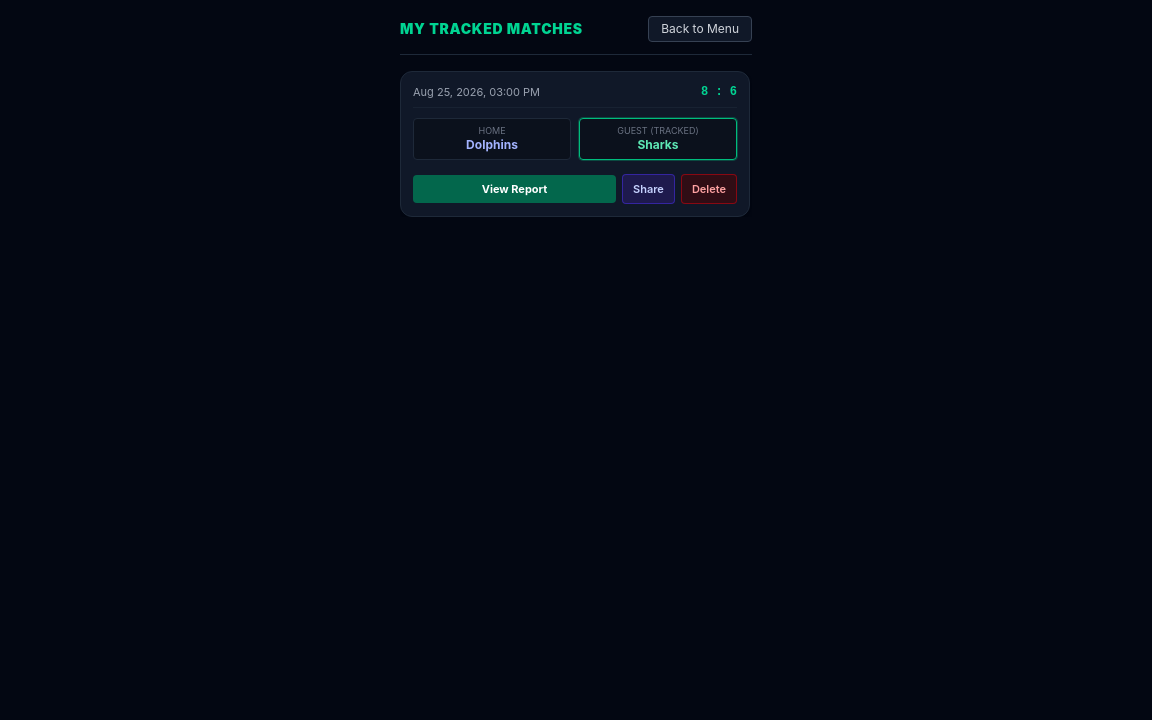
MyMatchesView Component › should handle share error gracefully when addUserToTrackedMatch fails
Expected: the text "Dolphins" is shown, [466,136,518,152]
Click the button "Share" at point(648, 189), box [622,174,675,204]
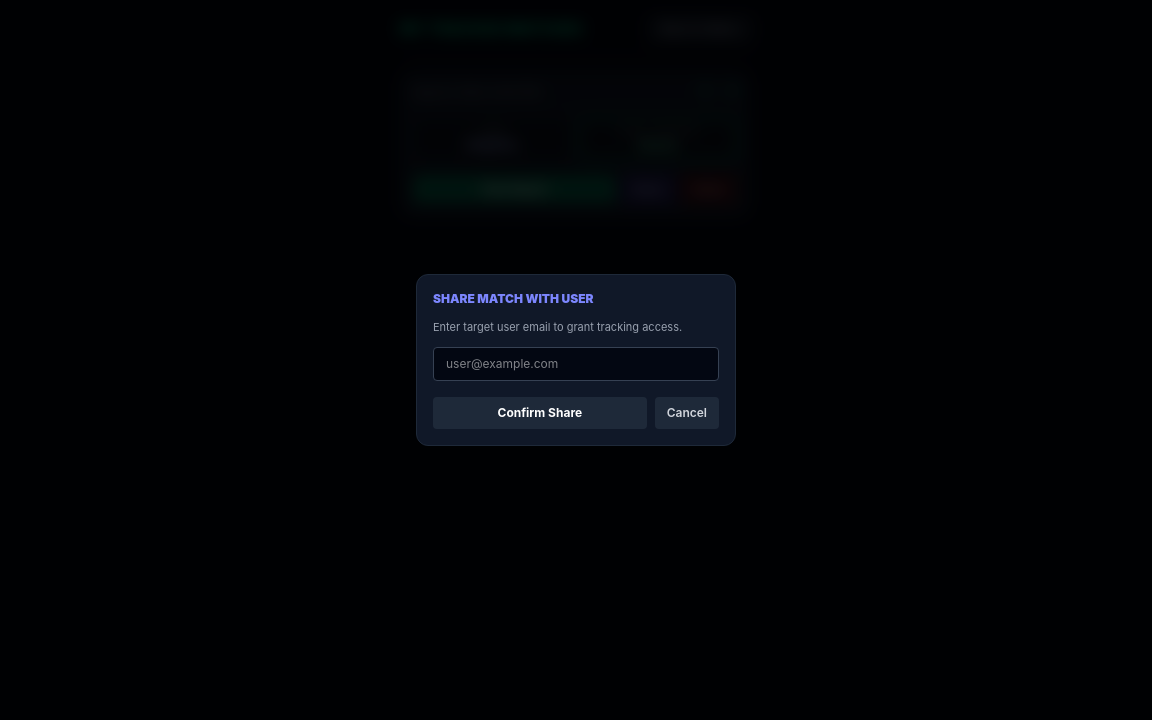
Type "assistant@tta.com" into the field with placeholder "user@example.com" at point(576, 364), box [433,347,719,381]
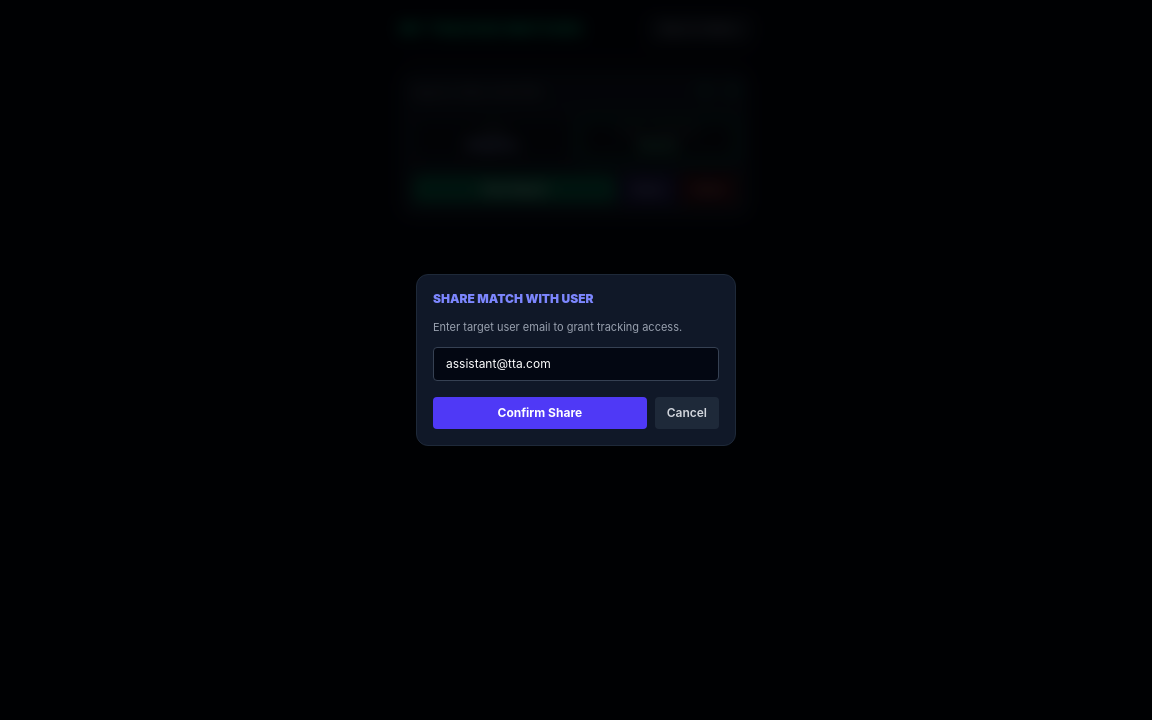
Click the button "Confirm Share" at point(540, 413), box [433,397,647,429]
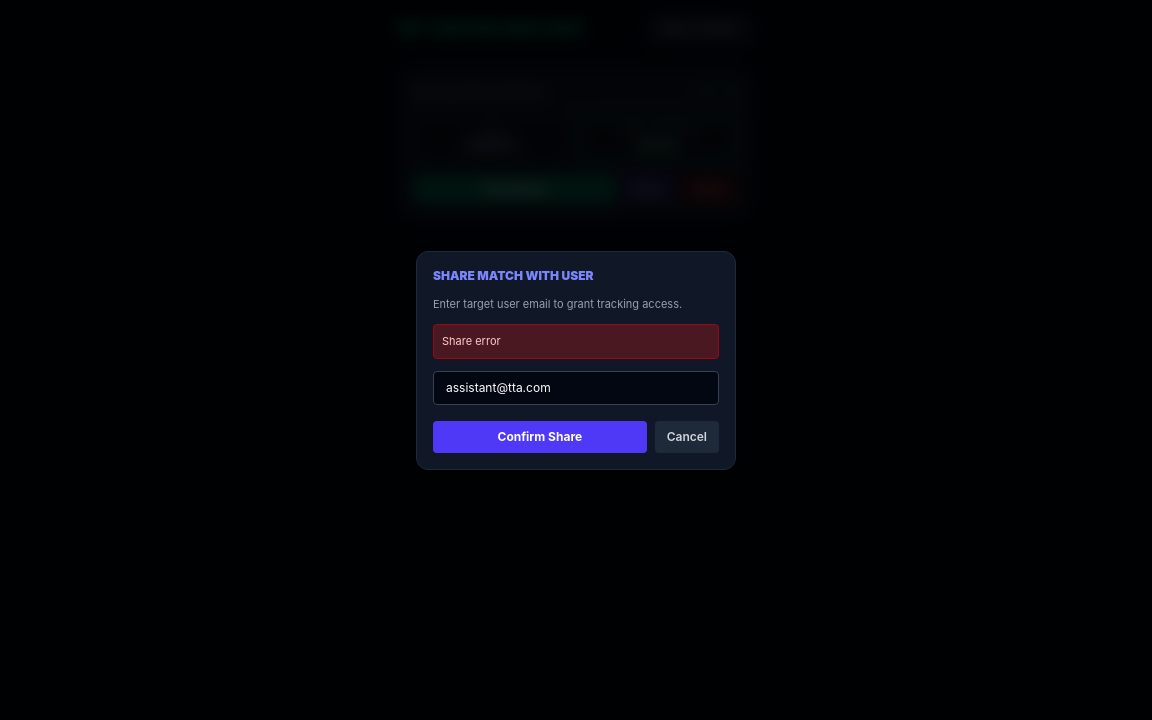
Now the text "Share error" is shown, box [433,324,719,358]
